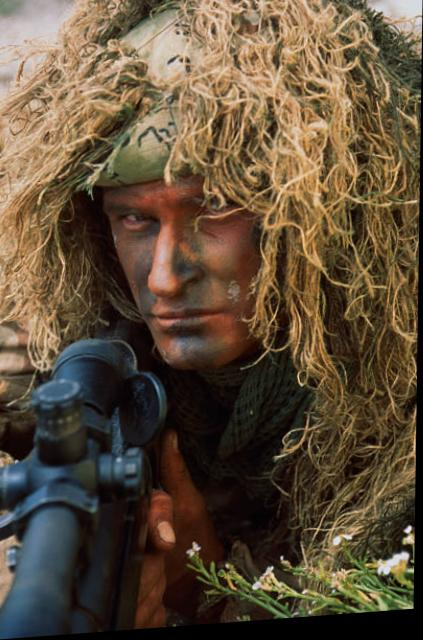other: (0, 0, 422, 606)
